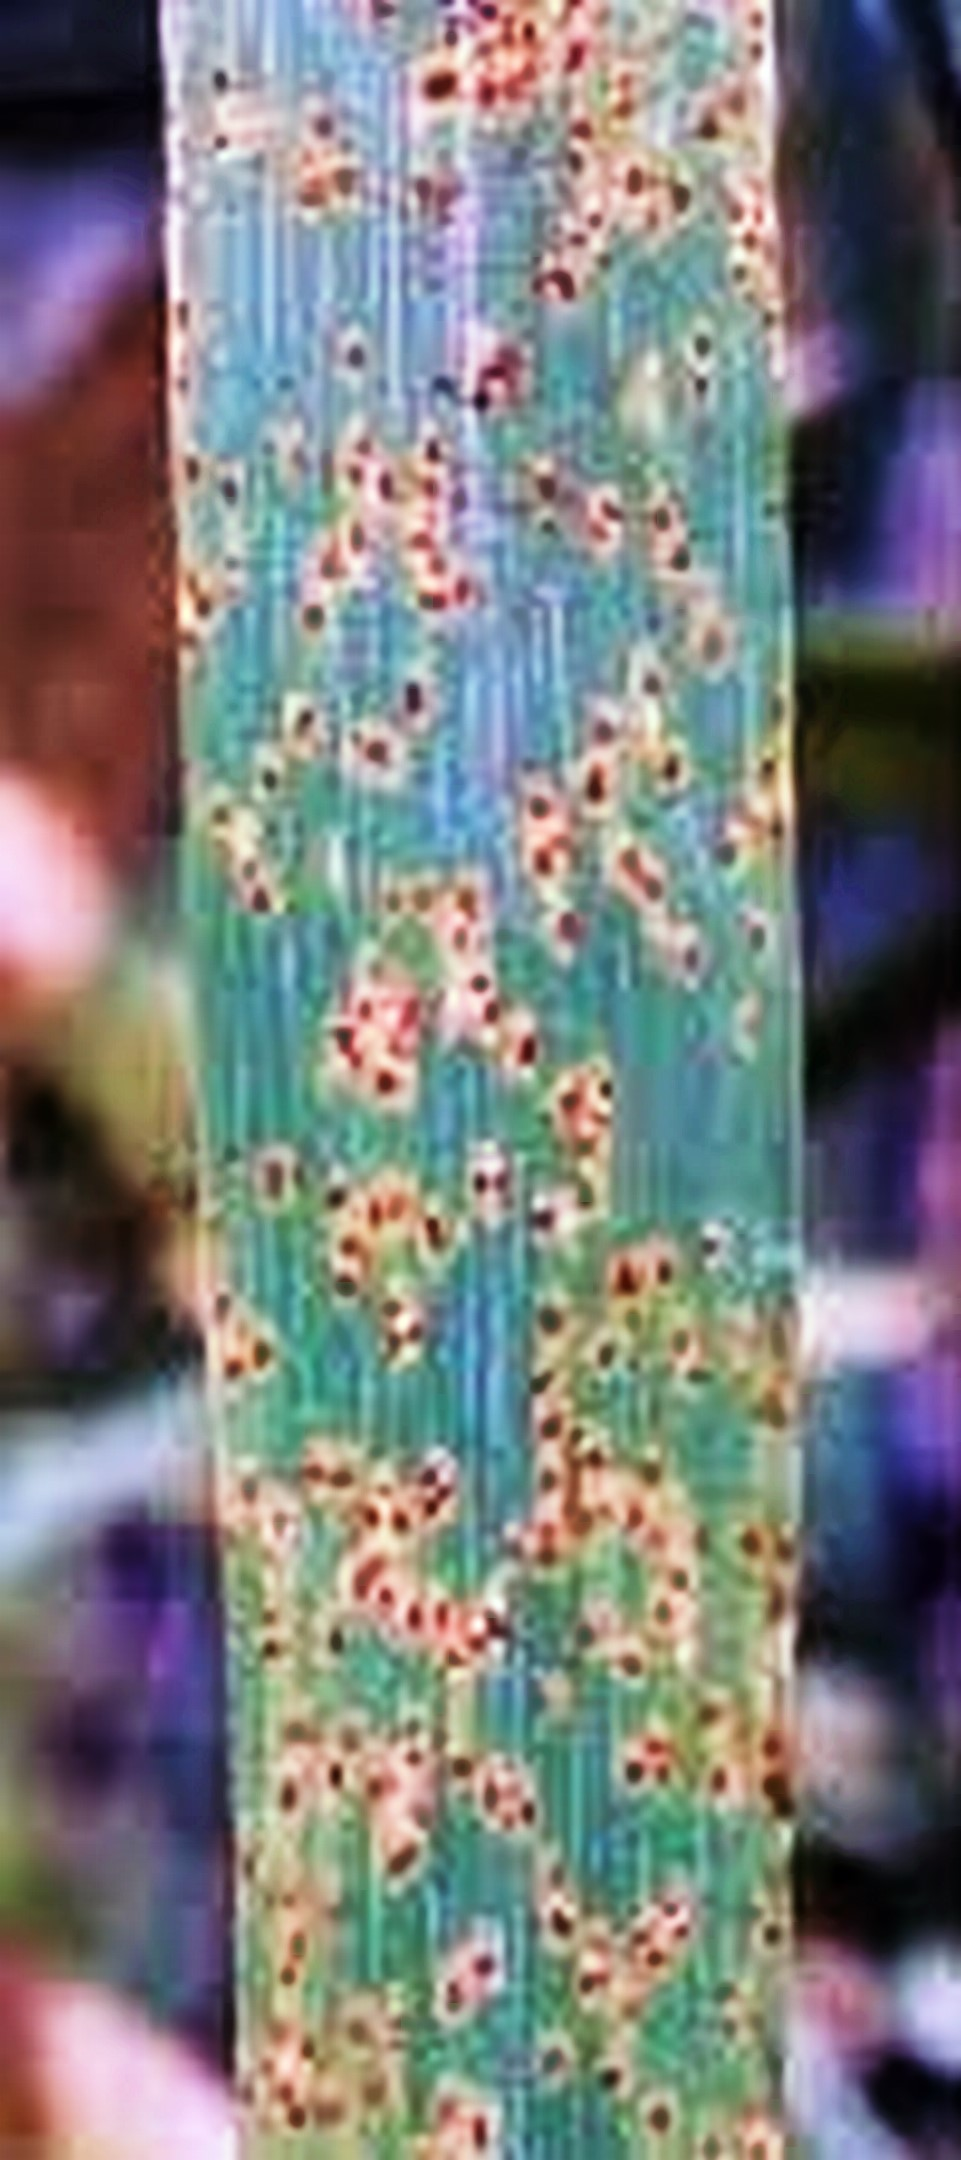Leaf Rust: (129, 80, 845, 2059)
